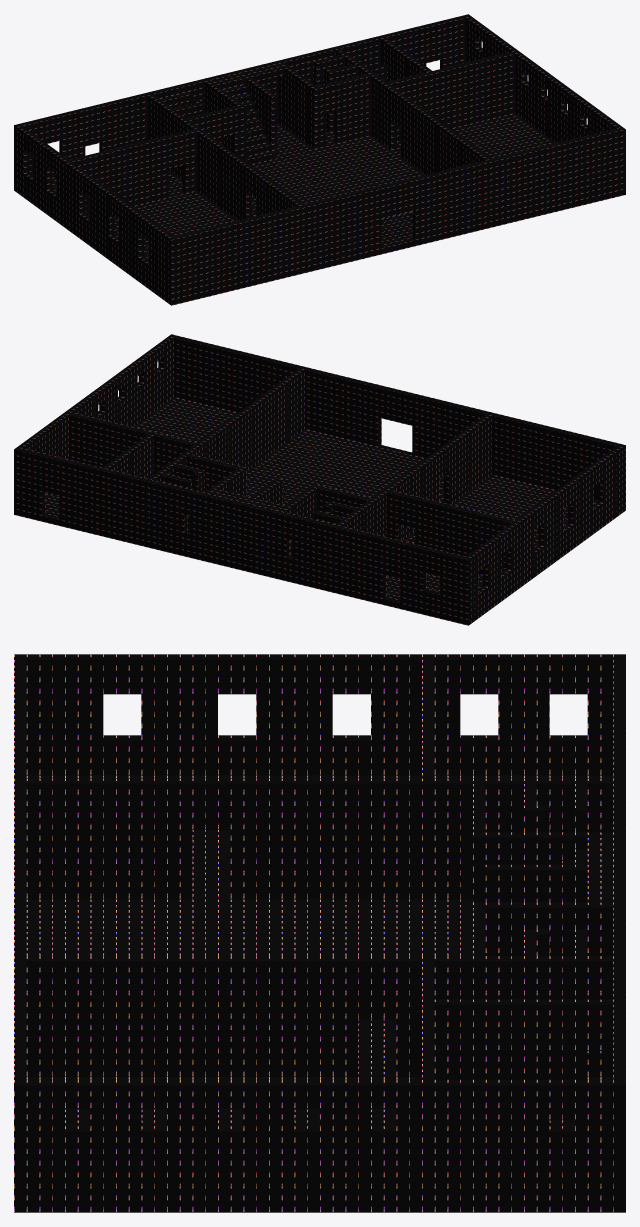
The model's file is convitto_multylayers_UV.gltf.
3 renders of one model, top to bottom at view 1: azimuth 30°, elevation 25°; view 2: azimuth 150°, elevation 25°; view 3: azimuth 270°, elevation 25°, orthographic. The views are drawn at different scales.
Parts seen in each view (by area): view 1: Layer.8, Layer.12, Layer.9, Layer.3, Layer.11, Layer.1, Layer.4, Layer.10, Layer.5, Layer.6, Layer.2; view 2: Layer.9, Layer.8, Layer.12, Layer.11, Layer.4, Layer.10, Layer.5, Layer.3, Layer.1, Layer.6, Layer.2; view 3: Layer.10, Layer.11, Layer.4, Layer.5, Layer.12, Layer.1, Layer.3, Layer.8, Layer.2, Layer.9, Layer.6.
Boxes of the visible parts, <box> form: Layer.8: <box>168,127,625,299</box>; Layer.12: <box>14,113,625,305</box>; Layer.9: <box>14,14,471,186</box>; Layer.3: <box>160,54,371,161</box>; Layer.11: <box>17,126,173,296</box>; Layer.1: <box>378,35,515,142</box>; Layer.4: <box>145,92,303,220</box>; Layer.10: <box>466,16,621,143</box>; Layer.5: <box>335,48,491,174</box>; Layer.6: <box>69,129,197,215</box>; Layer.2: <box>207,61,285,164</box>; Layer.9: <box>14,447,471,619</box>; Layer.8: <box>168,334,625,506</box>; Layer.12: <box>14,397,625,625</box>; Layer.11: <box>466,446,622,616</box>; Layer.4: <box>332,414,491,587</box>; Layer.10: <box>18,336,173,459</box>; Layer.5: <box>148,368,304,481</box>; Layer.3: <box>160,454,370,573</box>; Layer.1: <box>69,412,196,495</box>; Layer.6: <box>387,490,514,574</box>; Layer.2: <box>207,478,284,518</box>; Layer.10: <box>26,1080,613,1200</box>; Layer.11: <box>26,654,613,775</box>; Layer.4: <box>26,778,625,899</box>; Layer.5: <box>26,956,613,1076</box>; Layer.12: <box>14,775,625,1212</box>; Layer.1: <box>422,961,625,1120</box>; Layer.3: <box>473,783,625,955</box>; Layer.8: <box>14,654,26,1200</box>; Layer.2: <box>485,837,625,902</box>; Layer.9: <box>613,654,625,1200</box>; Layer.6: <box>422,659,434,778</box>.
Bounding box in the file's own units: 80 × 11 × 48.
1 material, 1 textured.
